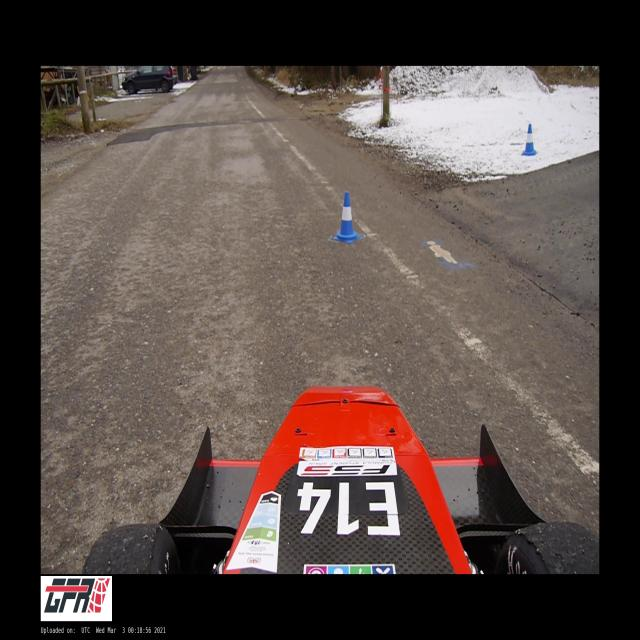blue_cone: (334, 192, 360, 243), (522, 124, 537, 156)
